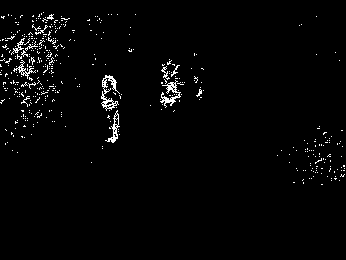person: (98, 73, 129, 146)
